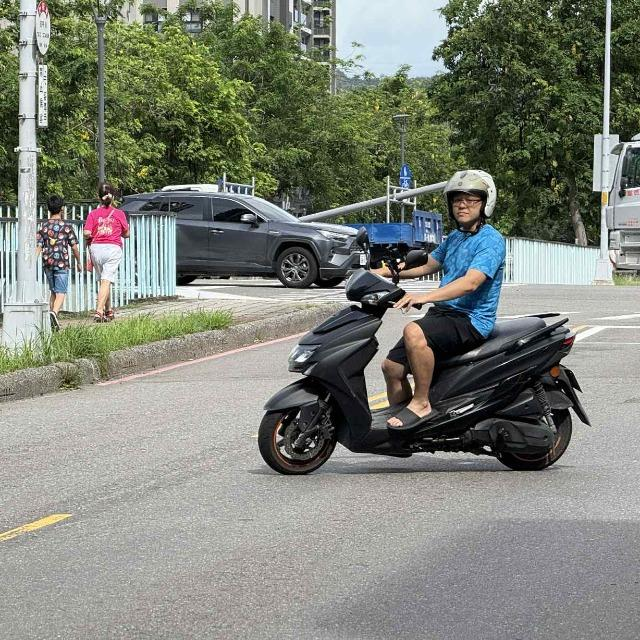NoVest: (433, 224, 508, 334)
